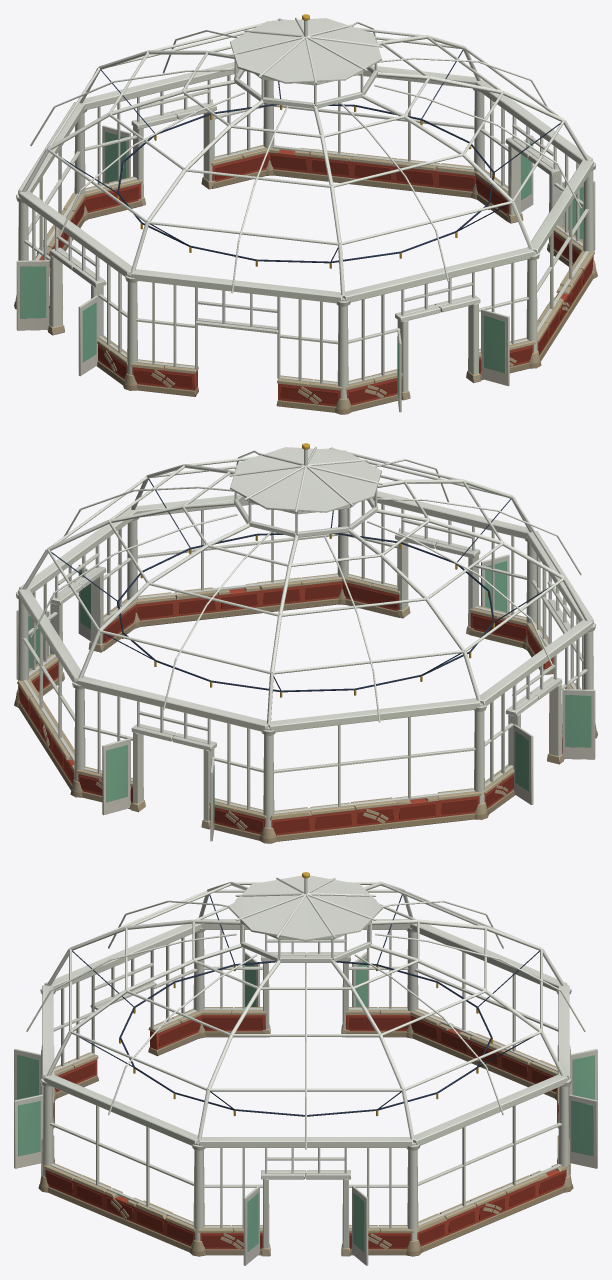
File: glasshouse_frame.glb
The picture shows the model from 3 angles, top to bottom: view 1: azimuth 30°, elevation 25°; view 2: azimuth 150°, elevation 25°; view 3: azimuth 270°, elevation 25°; orthographic projection. The views are drawn at different scales.
Visible parts, largest first — view 1: glasshouse_frame; view 2: glasshouse_frame; view 3: glasshouse_frame.
Boxes of the visible parts, box(x1,y1,x2,y2) form: glasshouse_frame: box(14, 14, 597, 414); glasshouse_frame: box(14, 443, 597, 843); glasshouse_frame: box(14, 872, 597, 1265).
Bounding box in the file's own units: 22.64 × 11.57 × 22.64.
